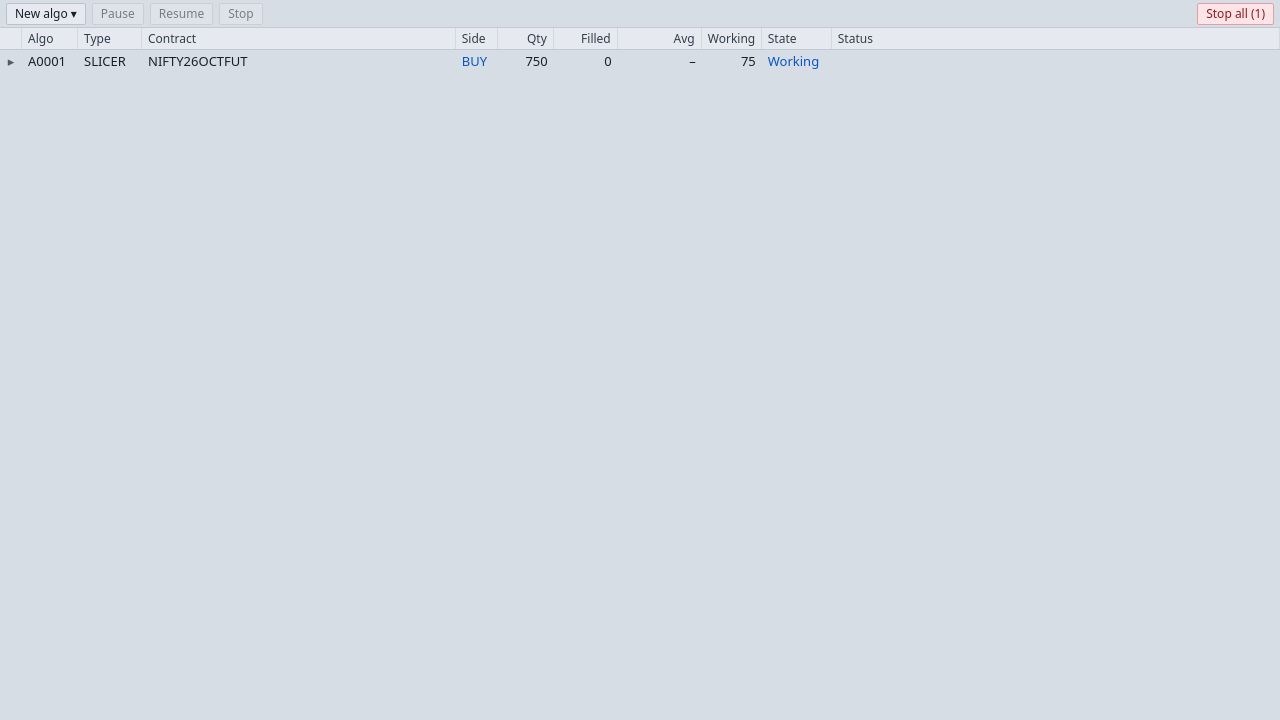
Test: Algo manager › an algo's own actions (#425) › shows what it would do in the server's words, and Confirm sends exactly that
Click the row "▸ A0001 SLICER NIFTY26OCTFUT BUY 750 0 – 75 Working": (47, 61) [0, 50, 819, 72]
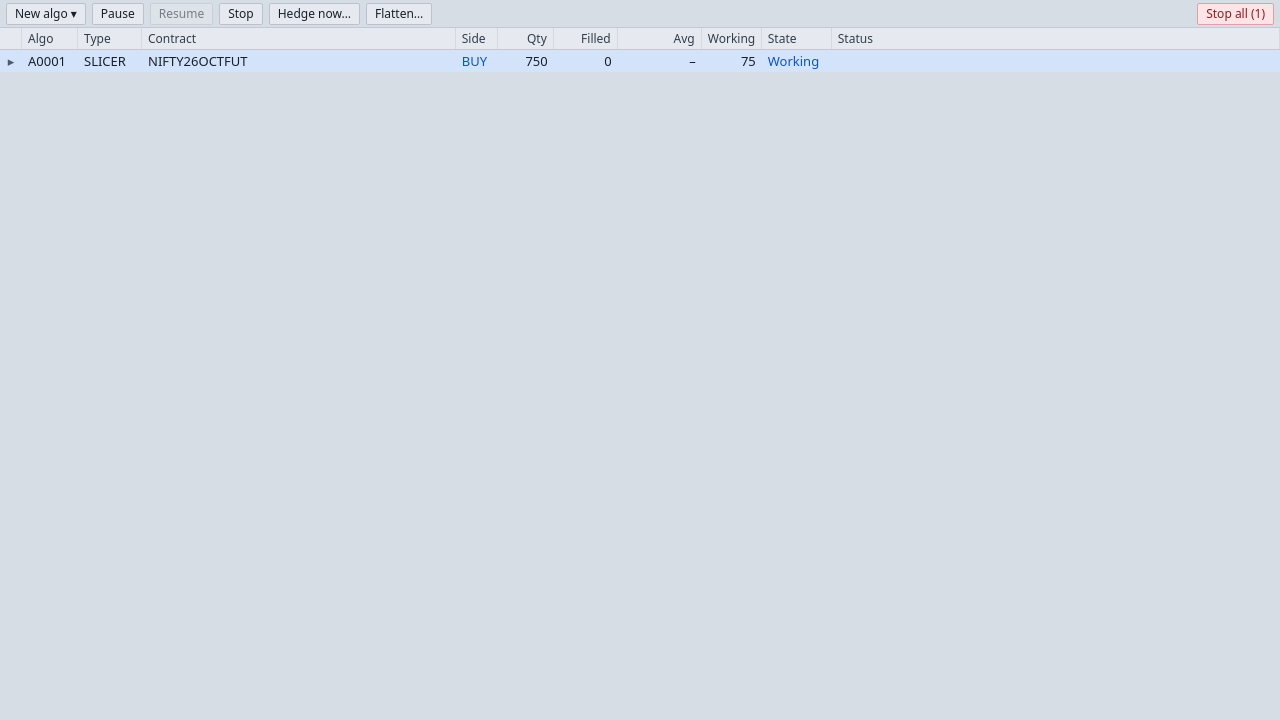
Click the button "Hedge now…": (314, 14) [269, 2, 360, 24]
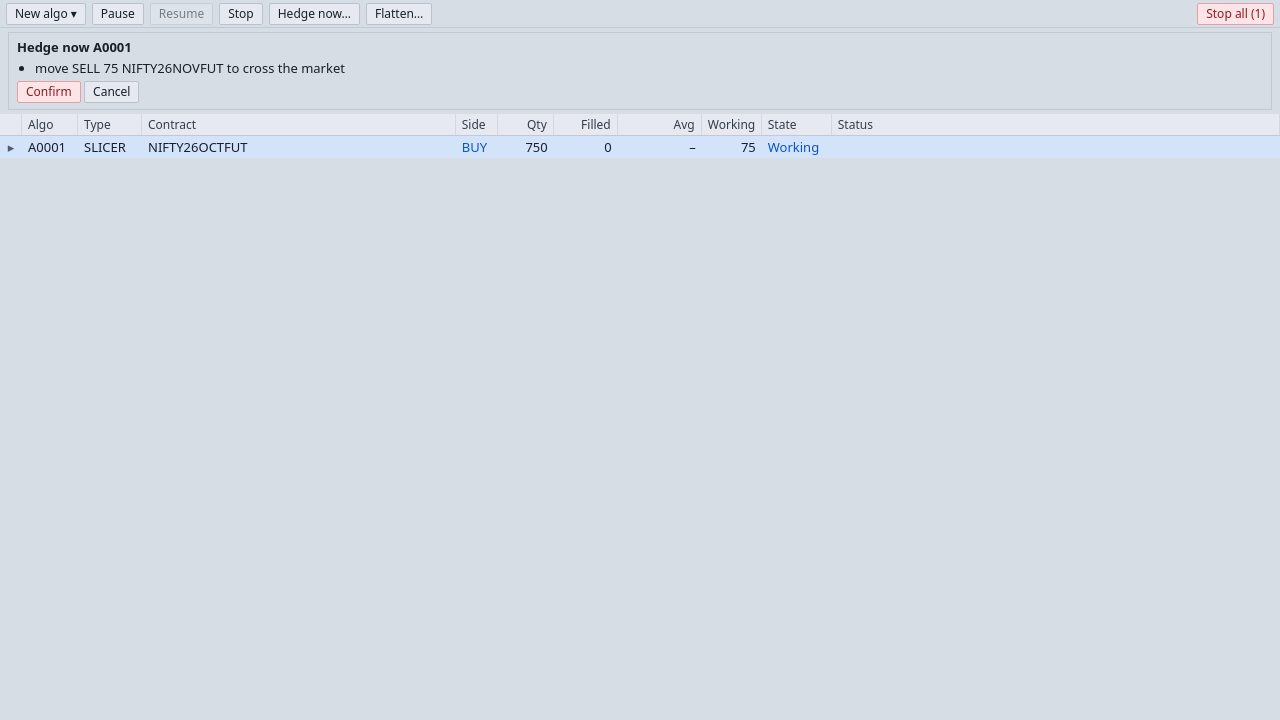
Expected: the dialog "Hedge now A0001" shows "move SELL 75 NIFTY26NOVFUT to cross the market", [35, 59, 345, 77]
Click the button "Confirm": (49, 92) [17, 81, 81, 103]
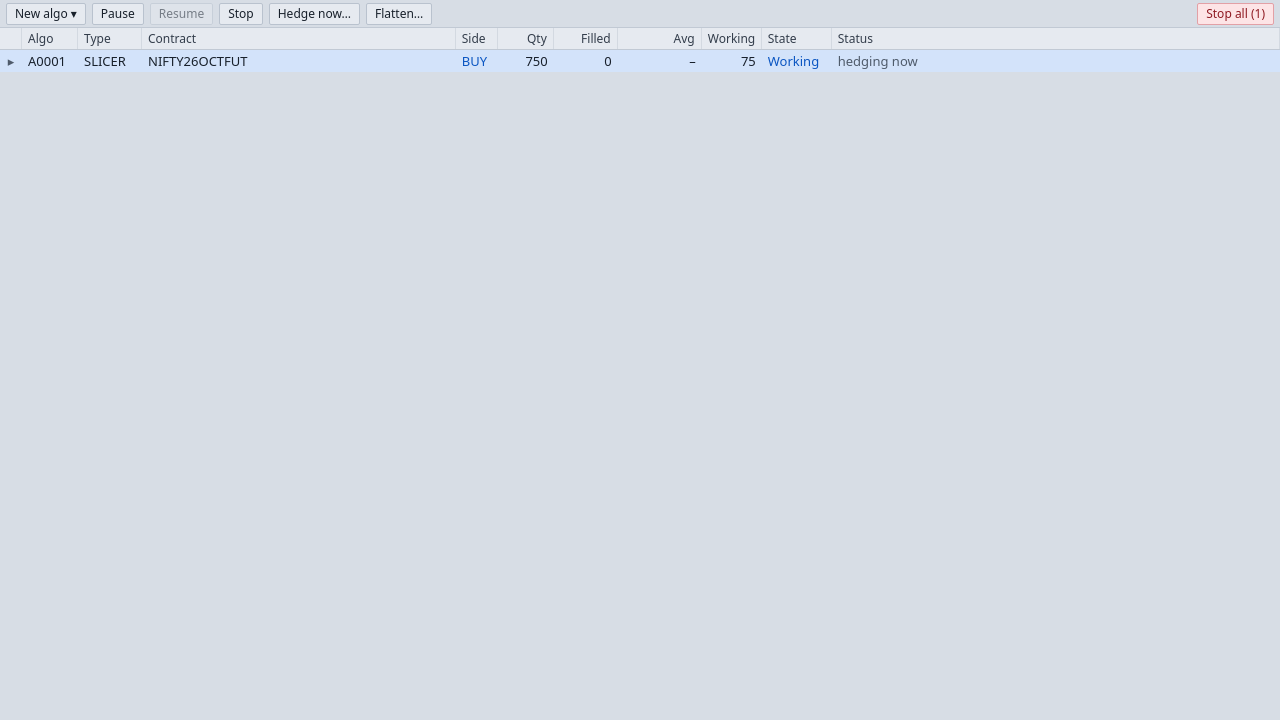
Expected: the text "hedging now" is shown, [838, 52, 918, 70]
Expected: the dialog is gone
